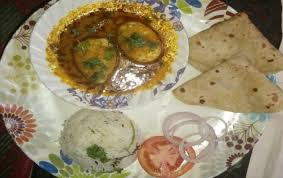egg: (116, 23, 164, 62), (68, 37, 116, 76)
roti: (185, 58, 283, 112), (185, 16, 283, 70)
